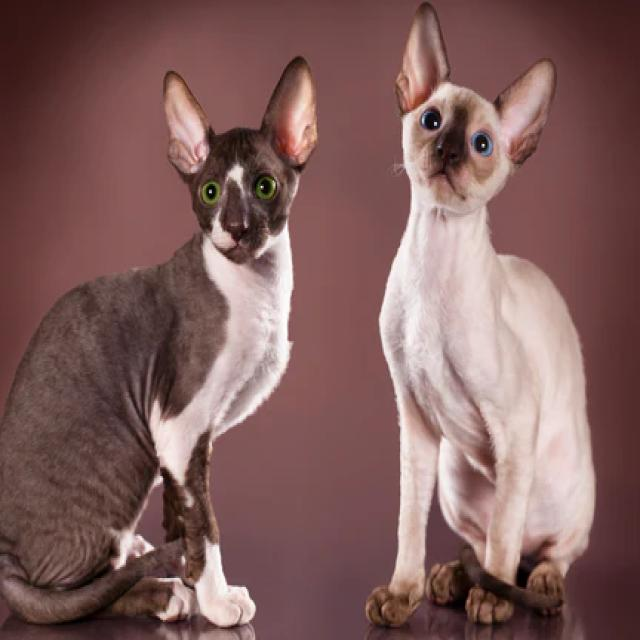Cornish Rex: (0, 48, 323, 634), (360, 0, 603, 636)
